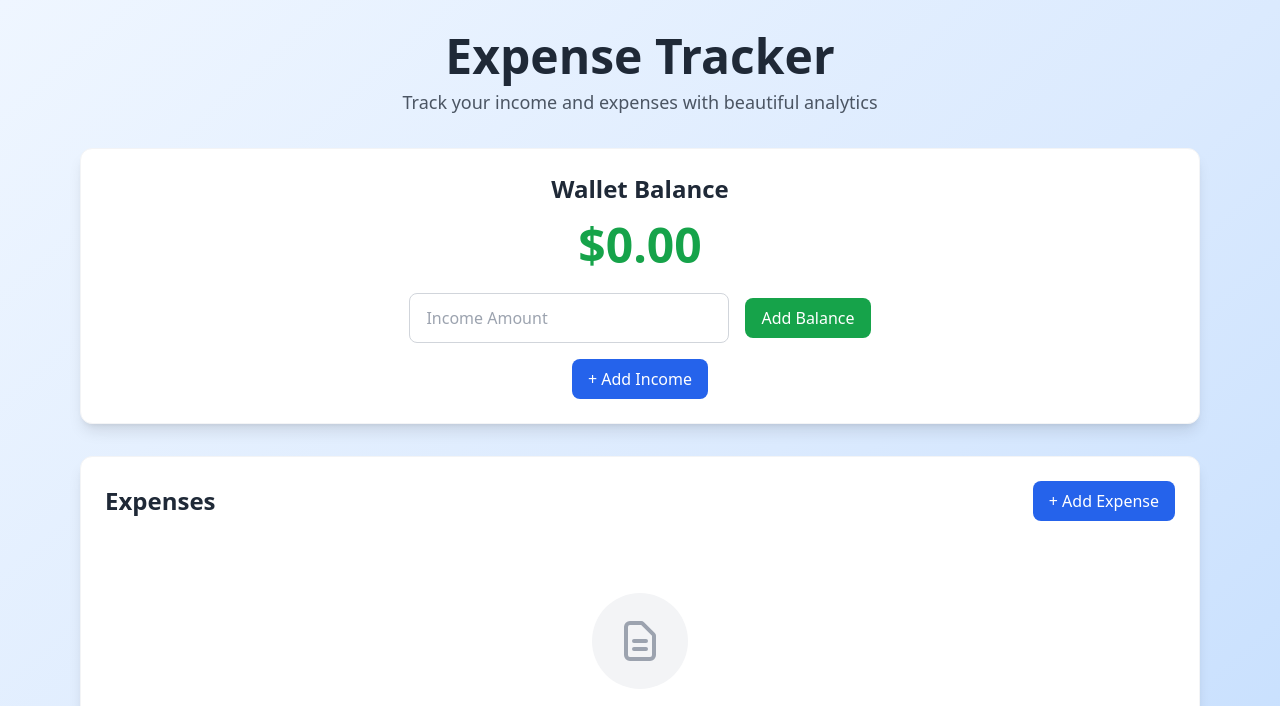
Test: Modern Expense Tracker App › should add income to wallet balance with smooth animations
The image size is (1280, 706).
Type "1000" into the number field with placeholder "Income Amount". click: (569, 318)
box: [409, 293, 729, 343]
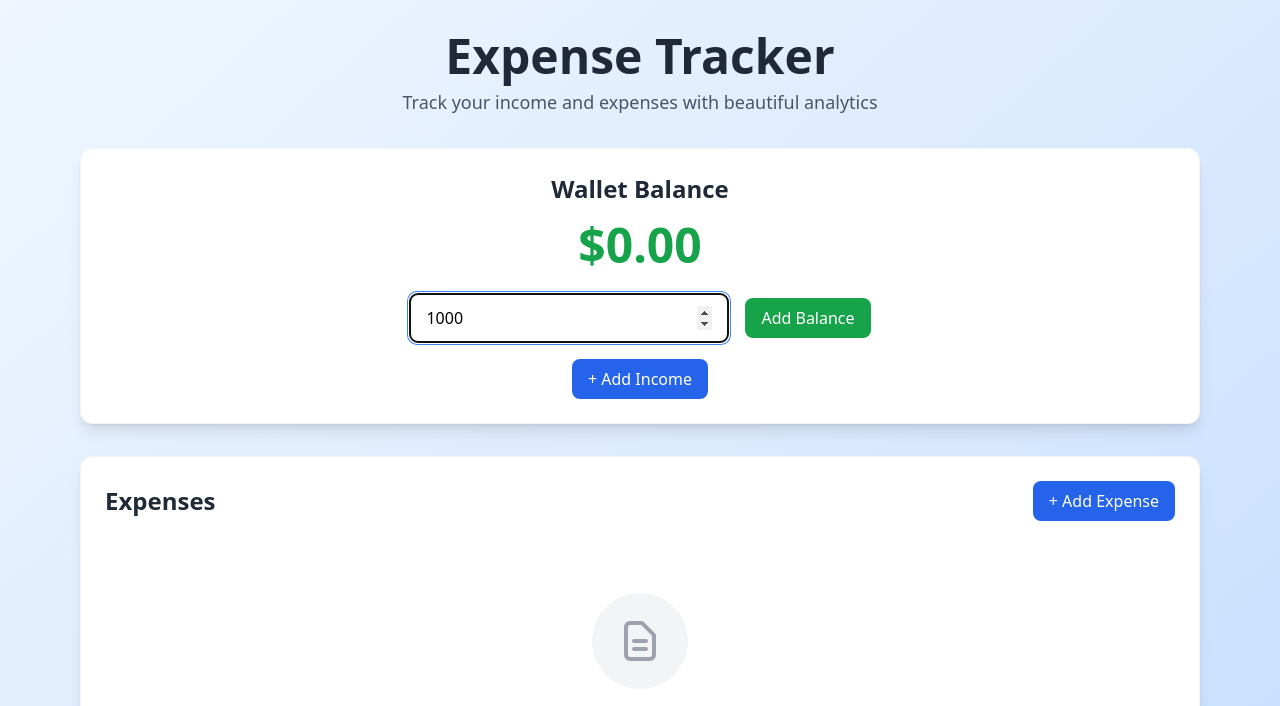
Click the button "Add Balance". click: (808, 318)
box: [745, 298, 870, 338]
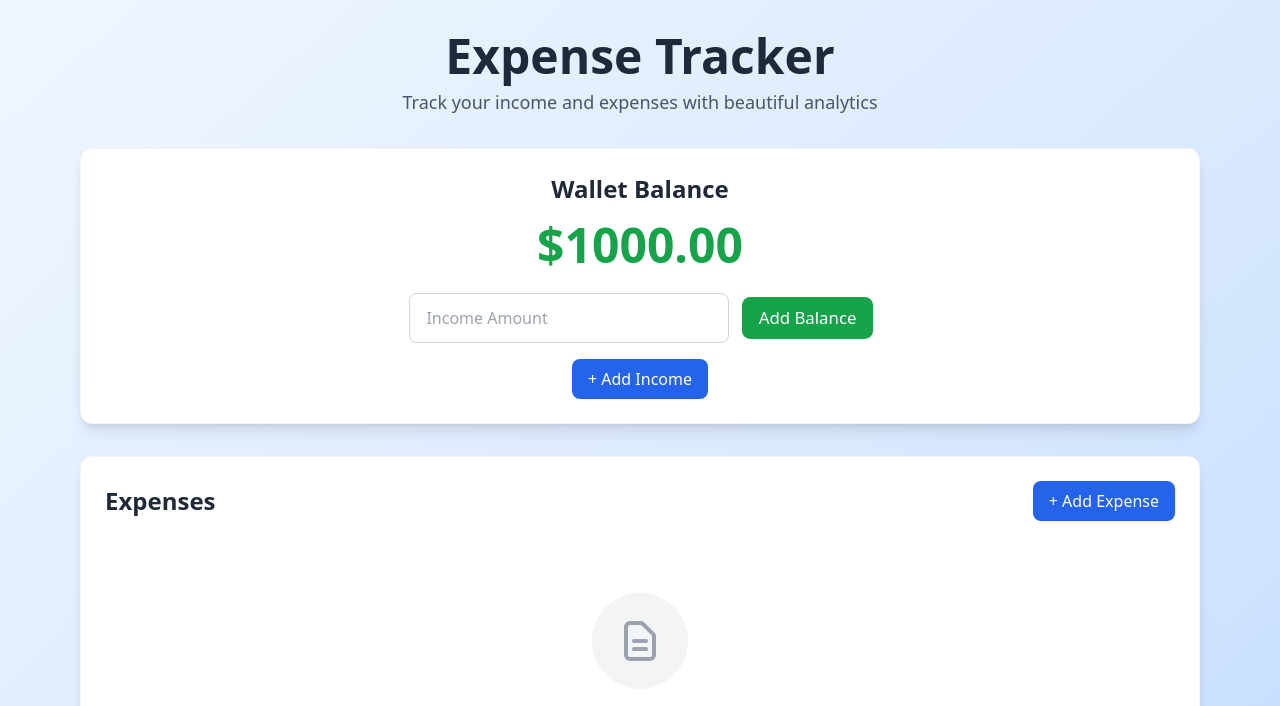
Now the text "$1000.00" is shown, box [537, 212, 743, 277]
